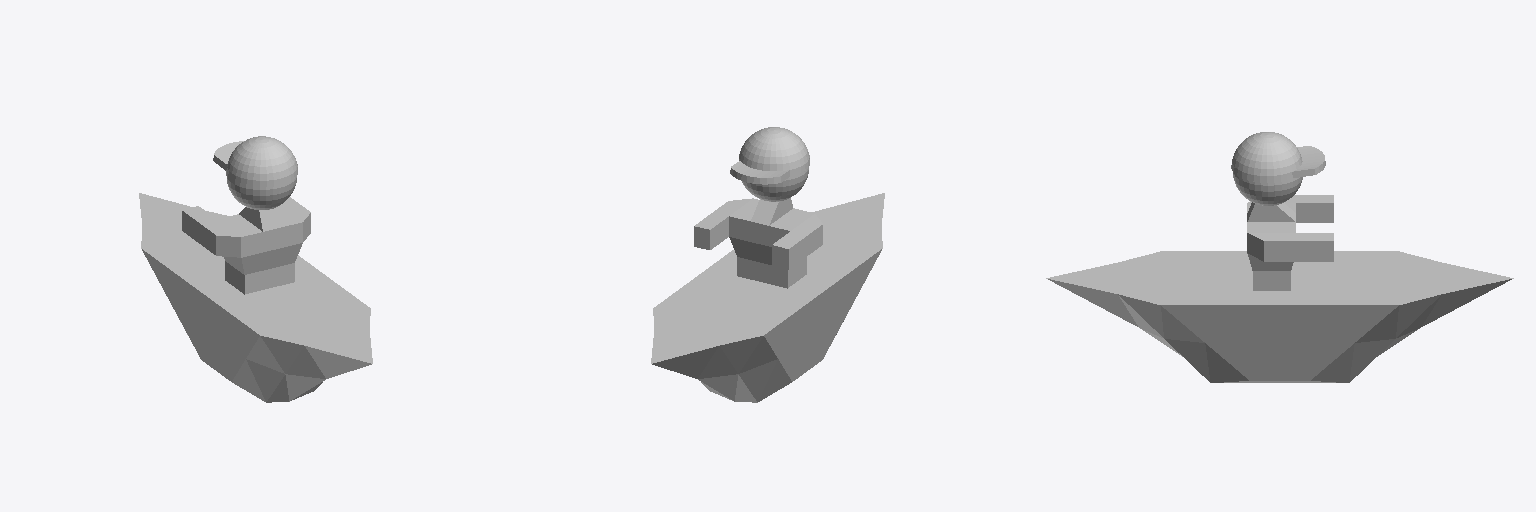
File: player.obj
3 views of the same model, side by side, from view 1: azimuth 30°, elevation 25°; view 2: azimuth 150°, elevation 25°; view 3: azimuth 270°, elevation 25° (orthographic).
Parts seen in each view (by area): view 1: 立方体, 立方体.001, 球.001, 球; view 2: 立方体, 立方体.001, 球.001, 球; view 3: 立方体, 立方体.001, 球.001, 球.
Part boxes in pixels (x1,y1,x2,y2): 立方体: (139,193,372,402); 立方体.001: (182,197,310,294); 球.001: (213,136,297,186); 球: (226,173,296,209); 立方体: (651,193,884,402); 立方体.001: (694,198,822,288); 球.001: (730,127,809,184); 球: (742,168,808,201); 立方体: (1046,251,1513,382); 立方体.001: (1247,195,1333,290); 球.001: (1231,132,1325,182); 球: (1233,173,1302,205).
Bounding box in the file's own units: 1.7 × 3.56 × 6.24.